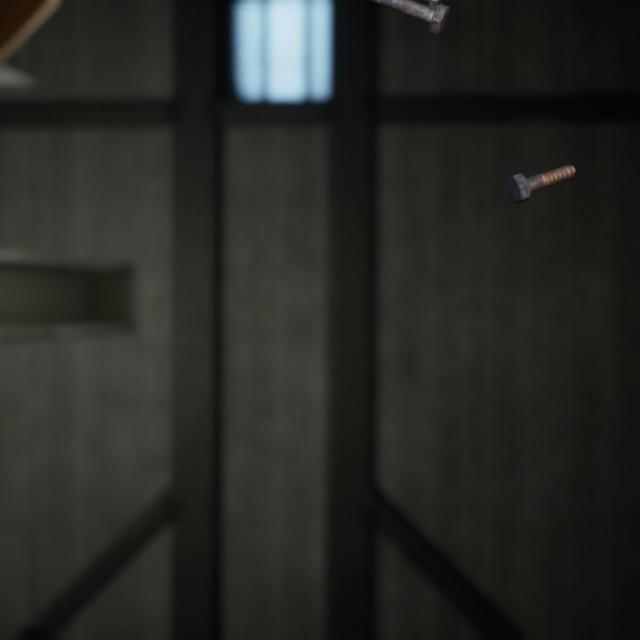bolt: (502, 146, 580, 193), (378, 0, 454, 32)
